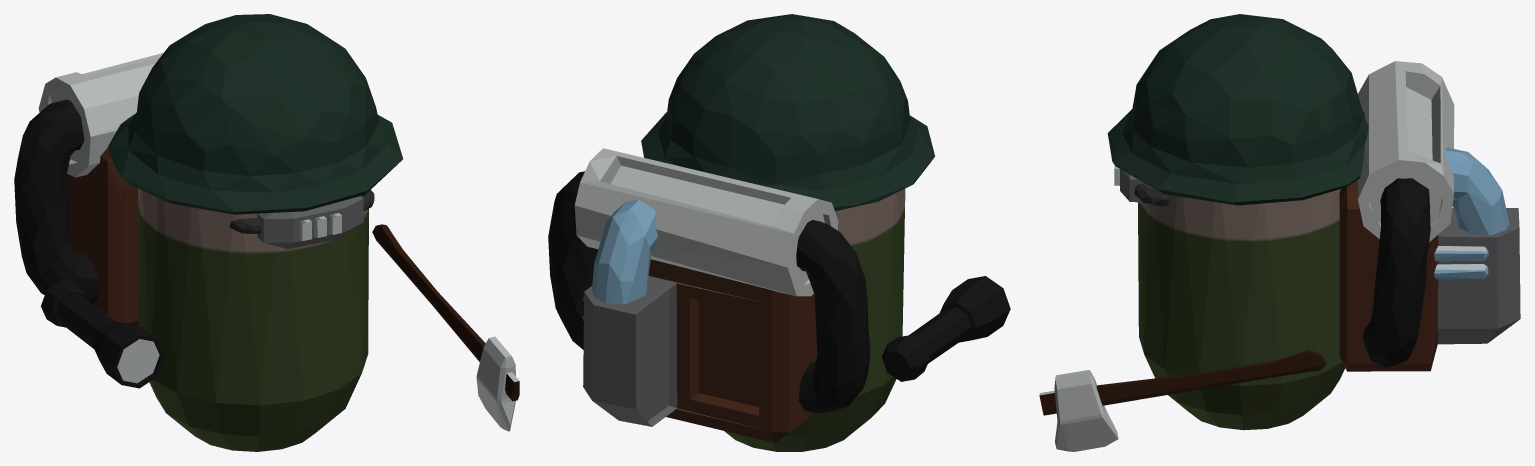
File: CharacterAtkAnim_V2.fbx
The picture shows the model from 3 angles, left to right: view 1: azimuth 30°, elevation 25°; view 2: azimuth 150°, elevation 25°; view 3: azimuth 270°, elevation 25°; orthographic projection. The views are drawn at different scales.
Parts seen in each view (by area): view 1: BODY, Hat, Backpack, Flashlight, Axe, Mask; view 2: Backpack, Hat, BODY, Flashlight; view 3: Backpack, BODY, Hat, Axe, Mask.
Part boxes in pixels (x1,y1,x2,y2): BODY: (138, 188, 368, 451); Hat: (108, 14, 402, 214); Backpack: (14, 53, 163, 326); Flashlight: (41, 281, 164, 388); Axe: (372, 224, 519, 431); Mask: (229, 190, 374, 249); Backpack: (548, 148, 870, 443); Hat: (641, 14, 935, 211); BODY: (724, 189, 905, 451); Flashlight: (882, 276, 1010, 381); Backpack: (1339, 61, 1520, 371); BODY: (1138, 187, 1344, 430); Hat: (1107, 14, 1368, 205); Axe: (1039, 350, 1326, 451); Mask: (1114, 166, 1168, 206).
Size of the model in its own units: 137 by 157 by 173.
